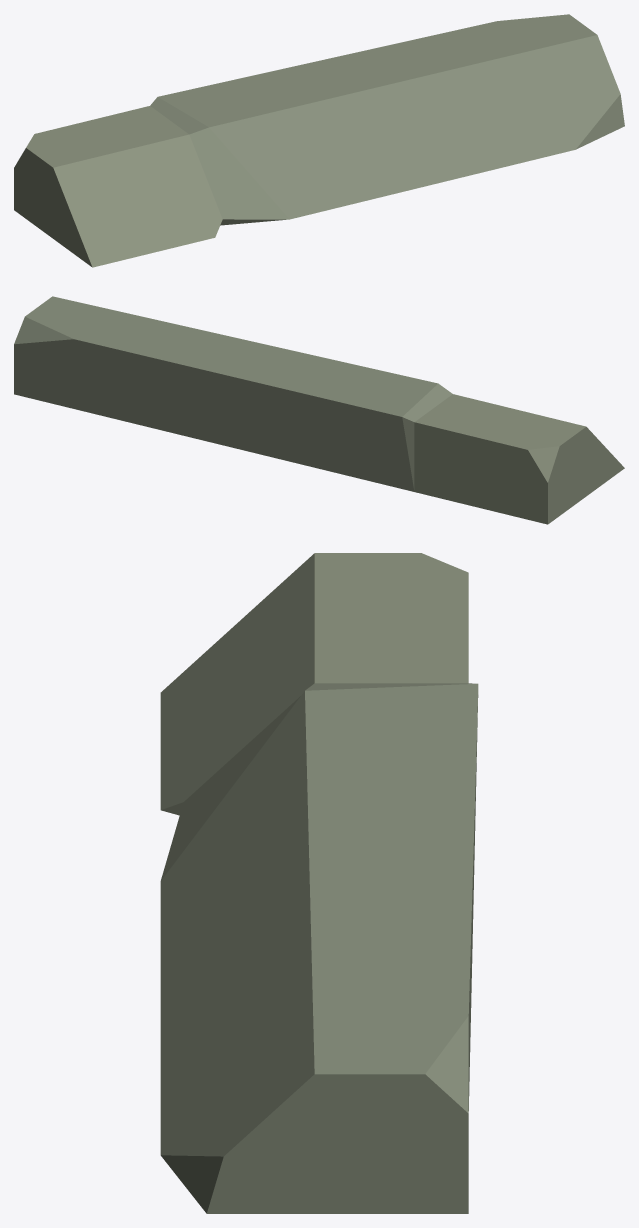
File: wall_paneling_1x2_low.fbx
3 renders of one model, top to bottom at view 1: azimuth 30°, elevation 25°; view 2: azimuth 150°, elevation 25°; view 3: azimuth 270°, elevation 25°, orthographic. The views are drawn at different scales.
Parts seen in each view (by area): view 1: wall_paneling_1x2_low; view 2: wall_paneling_1x2_low; view 3: wall_paneling_1x2_low.
Part boxes in pixels (x1,y1,x2,y2): wall_paneling_1x2_low: (14, 14, 624, 267); wall_paneling_1x2_low: (14, 296, 624, 524); wall_paneling_1x2_low: (160, 553, 478, 1213).
Bounding box in the file's own units: 200 × 26.65 × 51.58.
